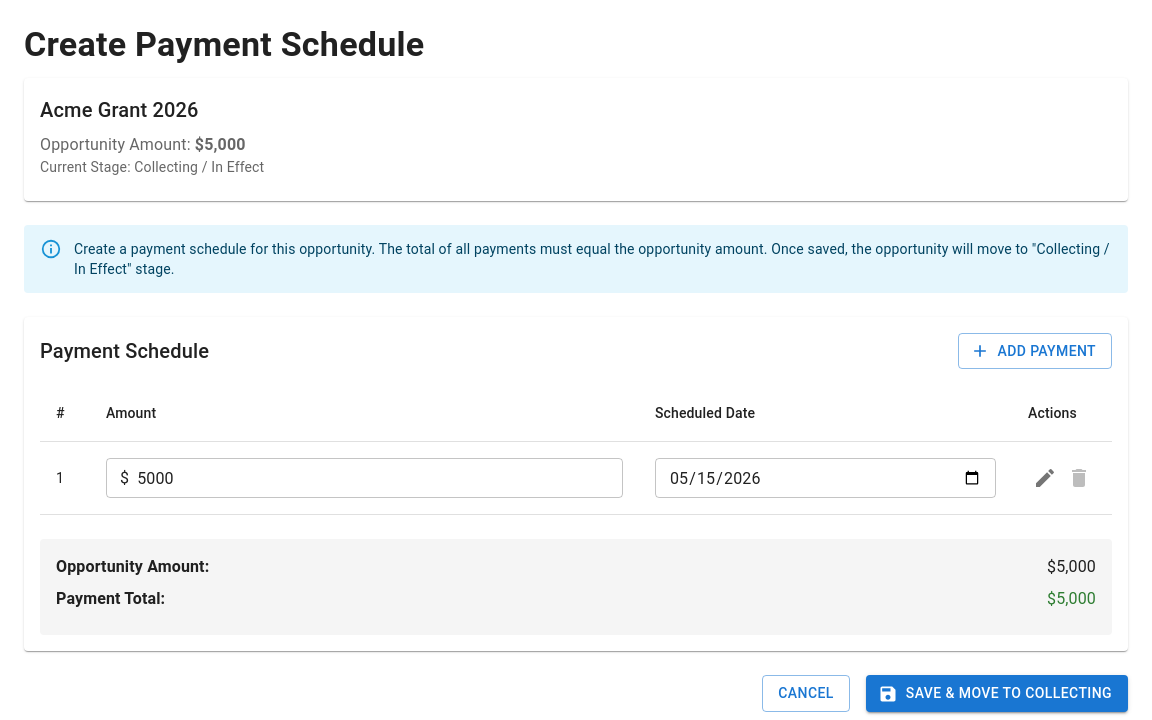
Test: PaymentSchedule — Edit Details clickthrough › opens PaymentEditDialog populated with the fetched SF record when Edit Details is clicked
This screenshot has width=1152, height=720.
What coordinates should you click on to do the following:
click the button titled "Edit payment details"
I would click on:
 (1045, 478)
Its box is [1028,461,1062,495].
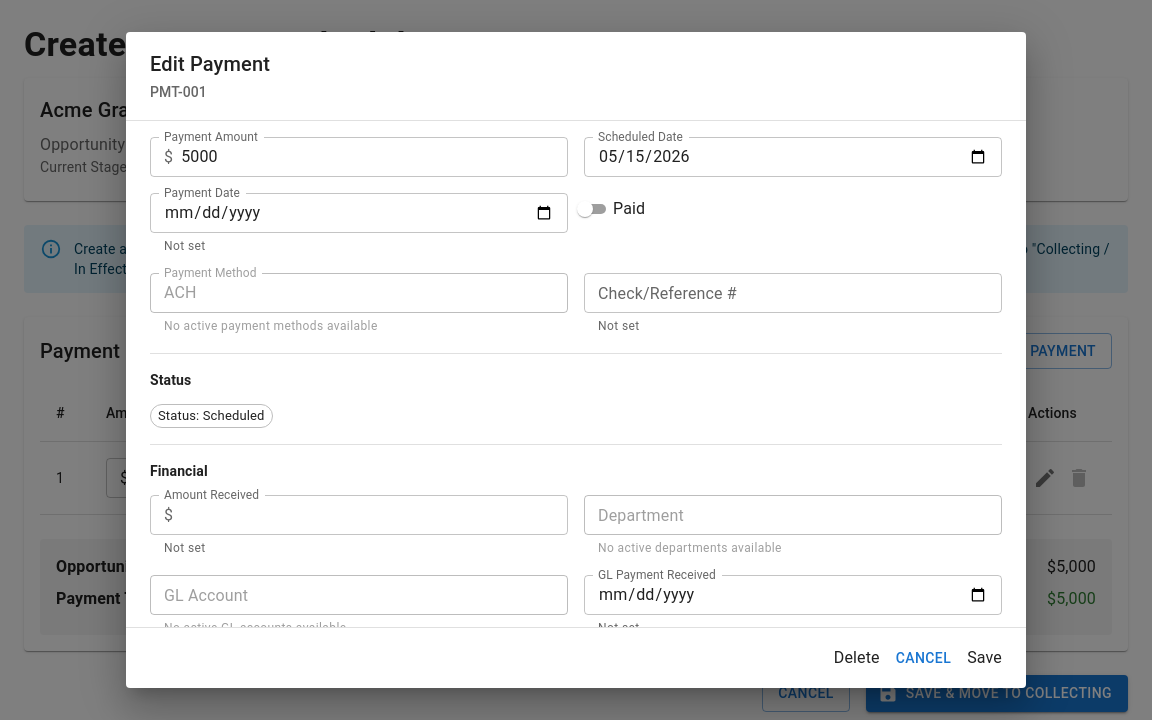
Check: the heading "PMT-001" is shown, box [150,84,207,100]
Check: the number field labelled "Payment Amount" holds "5000", box [181,137,568,177]
